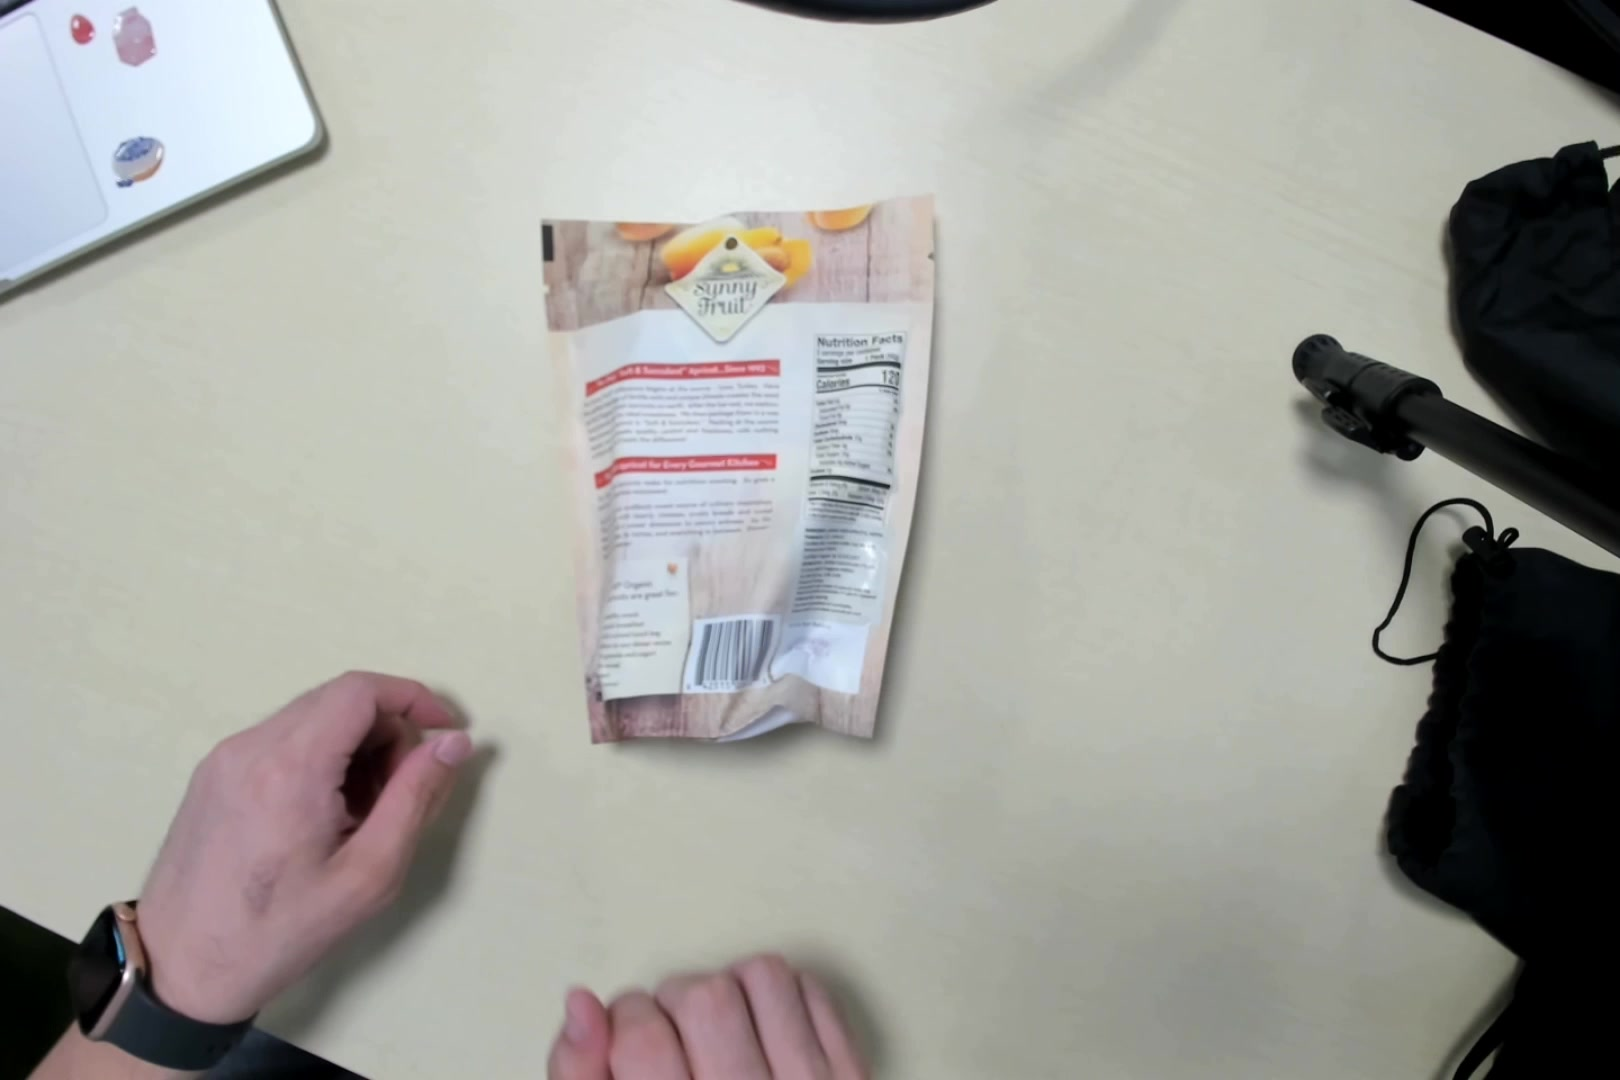DriedFood_0-99g_Halal_NonHealthy: (532, 192, 933, 755)
